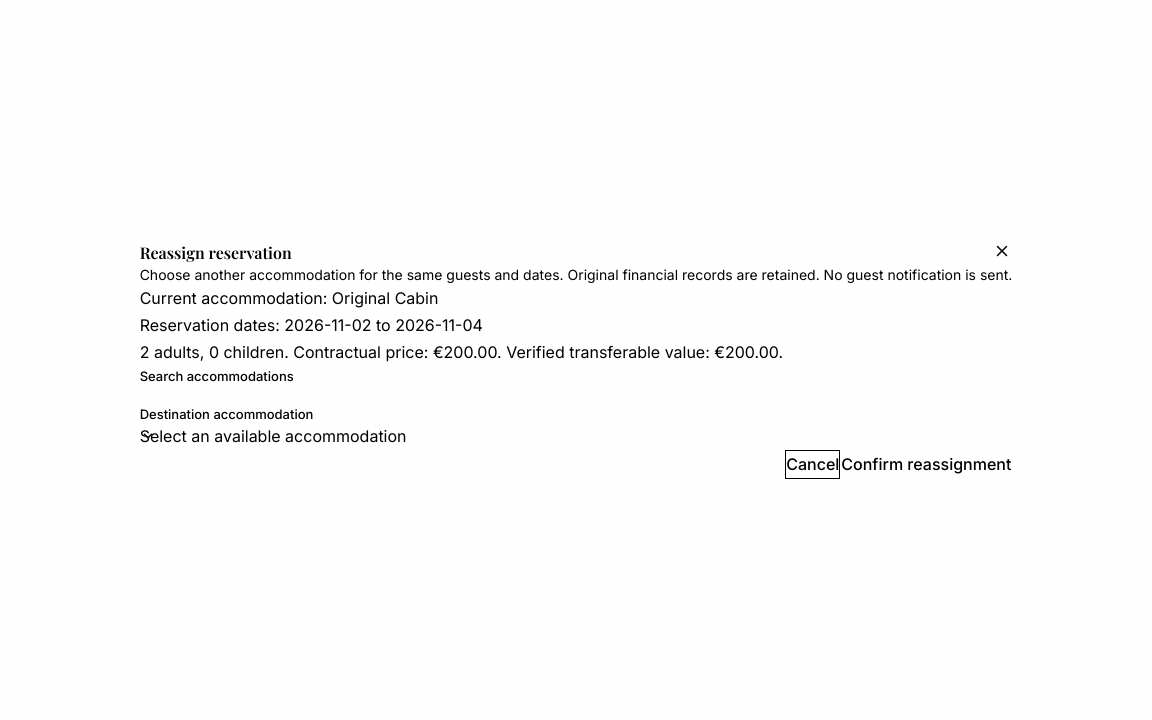
reservation reassignment › does not report reconciliation as a completed reassignment
This screenshot has width=1152, height=720.
Select "Forest Cabin - €200.00" in the dropdown labelled "Destination accommodation": [576, 436] box [140,426,1012,446]
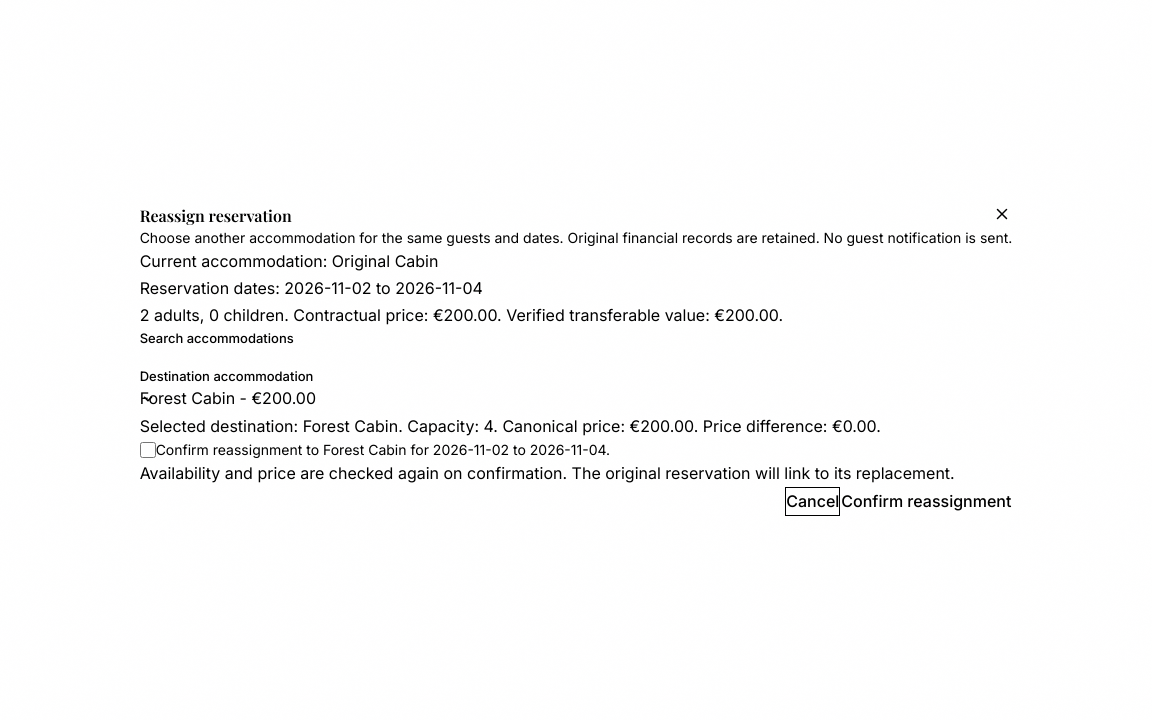
Click the checkbox labelled "Confirm reassignment to Forest Cabin": [148, 450] box [140,442,156,458]
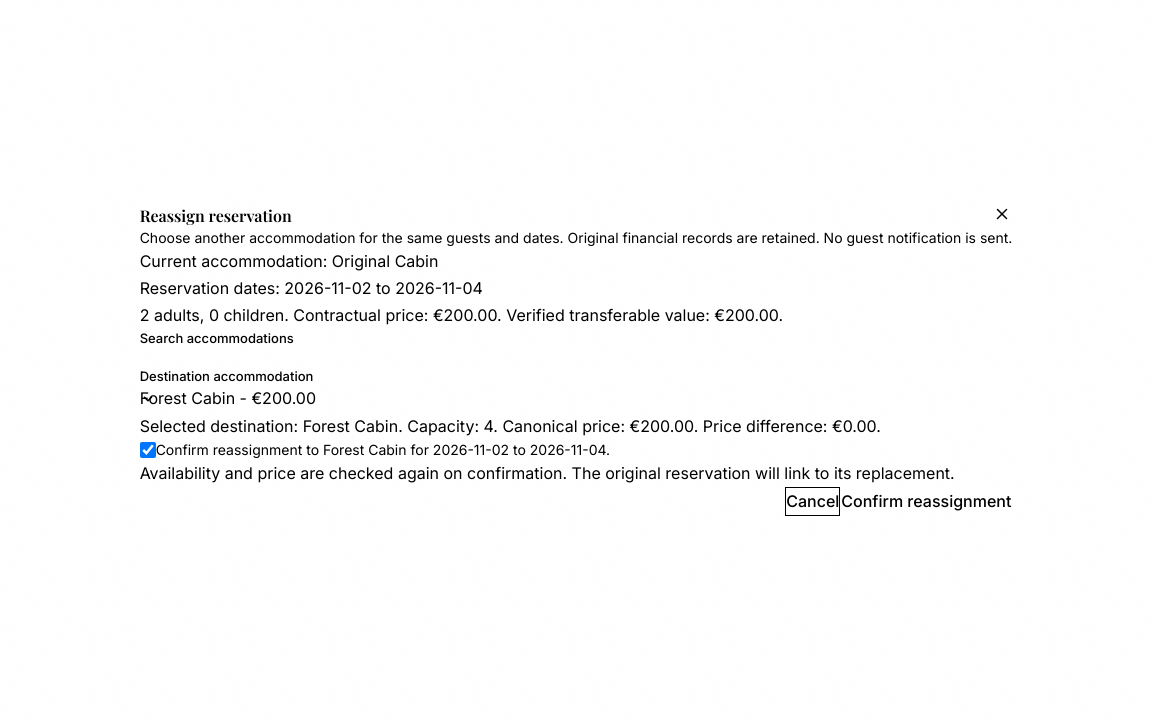
Click the button "Confirm reassignment": [926, 502] box [840,487,1012,516]
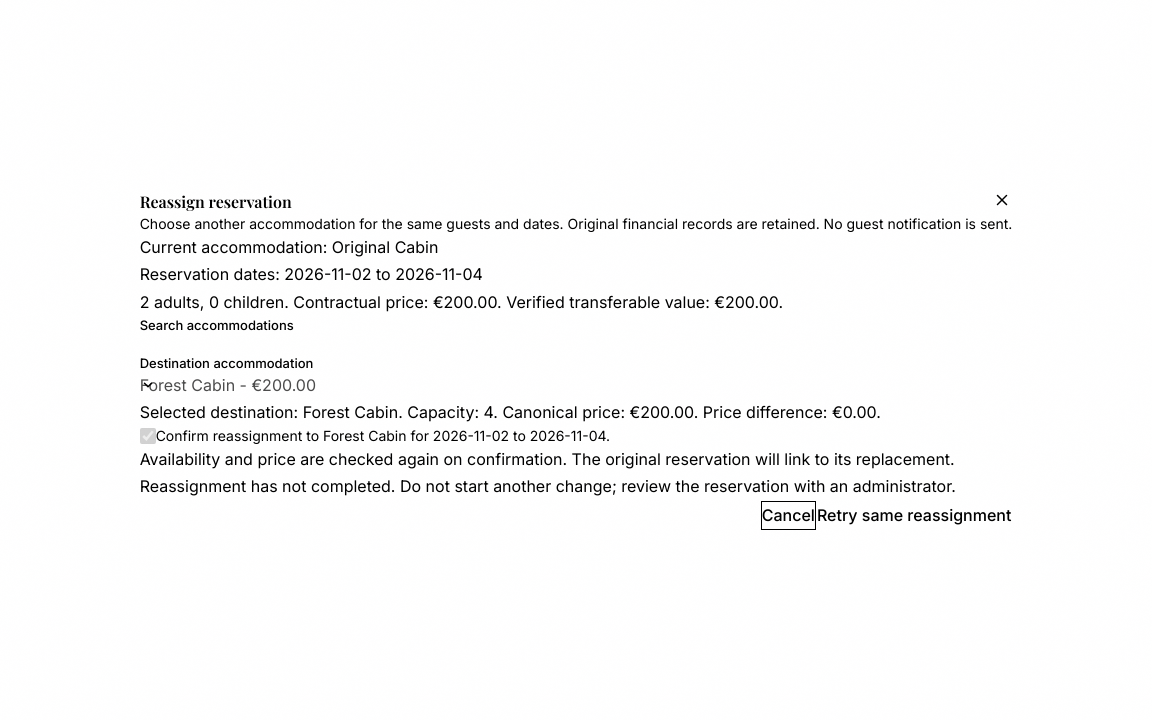
Result: the text "has not completed" is shown at [140,476,956,496]
